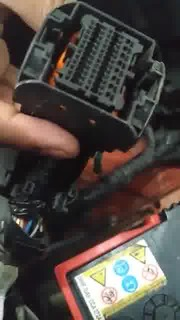connector: (12, 1, 166, 152)
